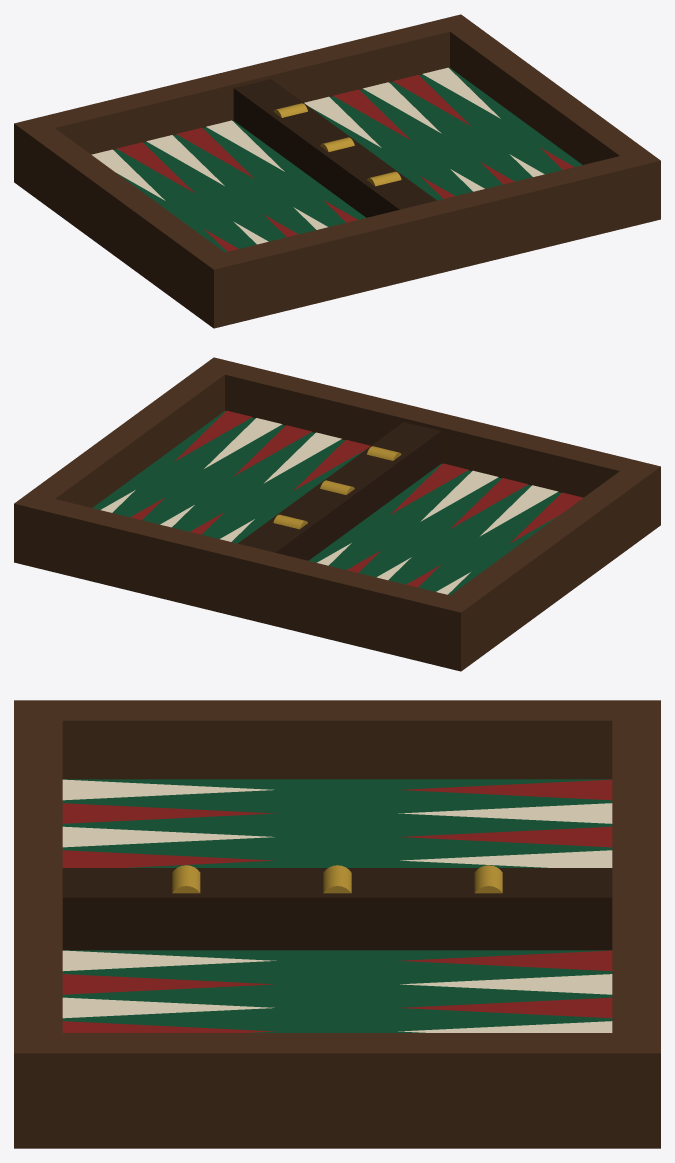
Rendered from board_classic.glb.
3 renders of one model, top to bottom at view 1: azimuth 30°, elevation 25°; view 2: azimuth 150°, elevation 25°; view 3: azimuth 270°, elevation 25°, orthographic. The views are drawn at different scales.
Visible parts, largest first — view 1: wall_B, wall_T, felt_R, base, felt_L, wall_L, wall_R, bar, point_22, point_23, point_16, point_17 (+6 smaller); view 2: wall_T, wall_B, felt_R, base, felt_L, wall_L, wall_R, bar, point_3, point_2, point_8, point_9 (+6 smaller); view 3: wall_R, wall_L, bar, felt_L, felt_R, base, wall_B, wall_T, point_11, point_14, point_4, point_6 (+13 smaller).
Part boxes in pixels (left/top/right/bottom): wall_B: left=199, top=156, right=660, bottom=306; wall_T: left=14, top=14, right=474, bottom=171; felt_R: left=310, top=68, right=582, bottom=200; base: left=14, top=161, right=660, bottom=328; felt_L: left=114, top=120, right=366, bottom=252; wall_L: left=14, top=119, right=239, bottom=307; wall_R: left=436, top=14, right=660, bottom=204; bar: left=233, top=79, right=436, bottom=217; point_22: left=363, top=82, right=441, bottom=133; point_23: left=392, top=75, right=470, bottom=125; point_16: left=146, top=135, right=224, bottom=185; point_17: left=176, top=127, right=254, bottom=178; wall_T: left=14, top=499, right=475, bottom=649; wall_B: left=199, top=357, right=660, bottom=503; felt_R: left=92, top=411, right=364, bottom=543; base: left=14, top=504, right=660, bottom=671; felt_L: left=308, top=463, right=560, bottom=595; wall_L: left=435, top=460, right=660, bottom=650; wall_R: left=14, top=357, right=239, bottom=546; bar: left=238, top=422, right=441, bottom=560; point_3: left=233, top=425, right=311, bottom=476; point_2: left=204, top=418, right=282, bottom=468; point_8: left=420, top=470, right=498, bottom=521; point_9: left=450, top=478, right=528, bottom=528; wall_R: left=14, top=1033, right=660, bottom=1114; wall_L: left=14, top=700, right=660, bottom=779; bar: left=62, top=868, right=612, bottom=950; felt_L: left=62, top=779, right=612, bottom=867; felt_R: left=62, top=950, right=612, bottom=1032; base: left=14, top=1114, right=660, bottom=1148; wall_B: left=14, top=700, right=62, bottom=1114; wall_T: left=612, top=700, right=660, bottom=1114; point_11: left=62, top=803, right=276, bottom=823; point_14: left=398, top=803, right=612, bottom=823; point_4: left=62, top=997, right=274, bottom=1018; point_6: left=62, top=950, right=276, bottom=971.
Bounding box in the file's own units: 0.62 × 0.079 × 0.48.
